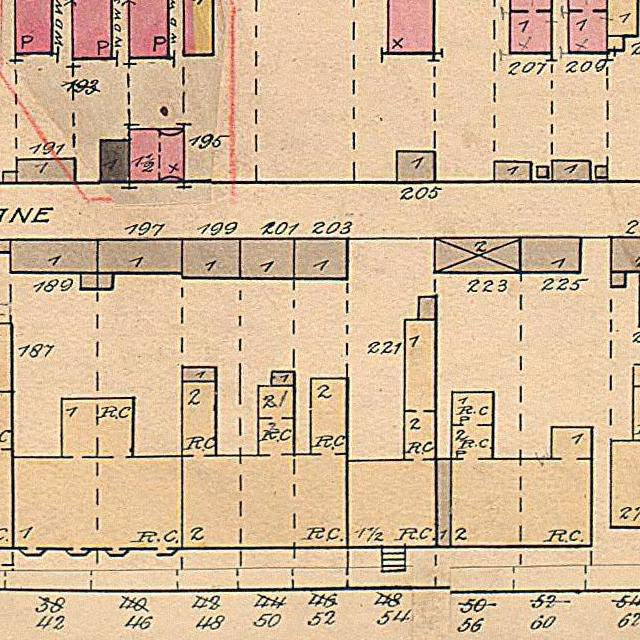building-footprints: (182, 378, 348, 549), (13, 398, 182, 556), (451, 392, 592, 547), (347, 320, 437, 547), (435, 239, 521, 273), (129, 129, 184, 182), (10, 240, 98, 273), (98, 240, 182, 274), (388, 0, 434, 53), (182, 239, 241, 279), (72, 0, 112, 59), (128, 0, 168, 57), (294, 239, 348, 279), (240, 239, 294, 279), (521, 238, 581, 273), (15, 0, 52, 54), (17, 159, 75, 183), (436, 460, 451, 547), (100, 140, 129, 182), (397, 152, 435, 182), (611, 237, 640, 271), (0, 323, 13, 392), (552, 161, 591, 182), (494, 162, 531, 181), (183, 367, 216, 382), (419, 297, 436, 320), (272, 371, 294, 386), (81, 273, 97, 289), (97, 273, 113, 289), (607, 36, 624, 50), (611, 272, 625, 287), (3, 172, 17, 183), (595, 166, 607, 177), (0, 240, 10, 253), (537, 167, 548, 177)
